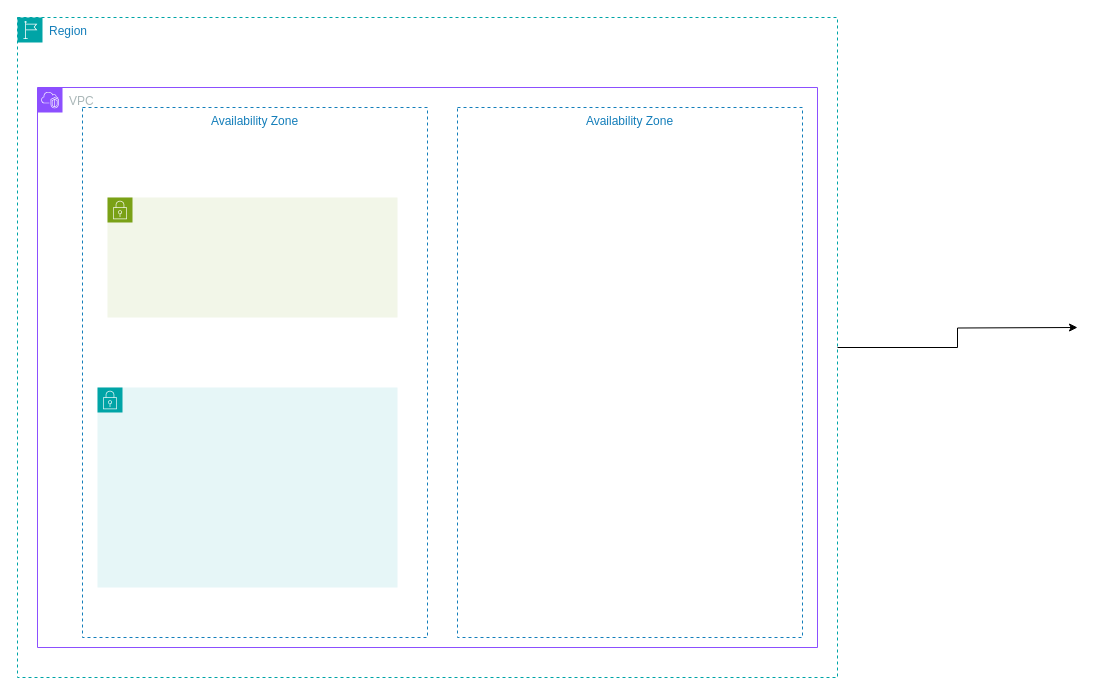
The diagram is 1103 pixels wide and 695 high, and some of its shapes have lost their labels. Each missing label, with the box of its shape:
Private subnet: (96, 386, 398, 588)
Public subnet: (106, 196, 398, 318)
